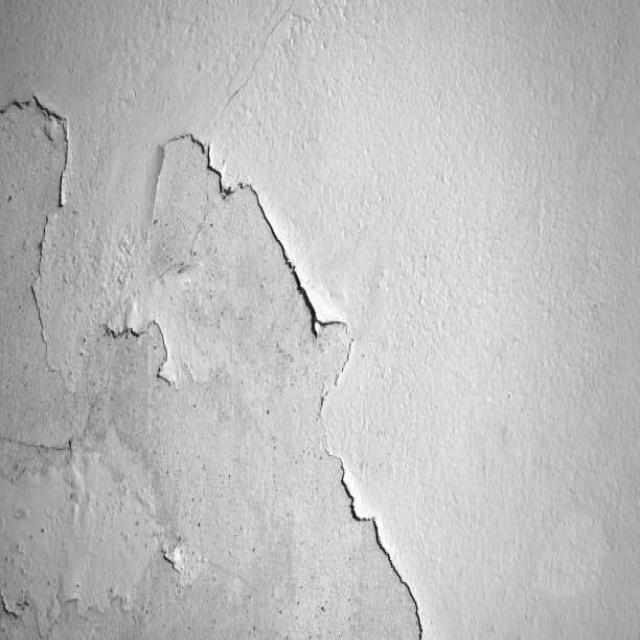peeling paint: (0, 72, 430, 640)
